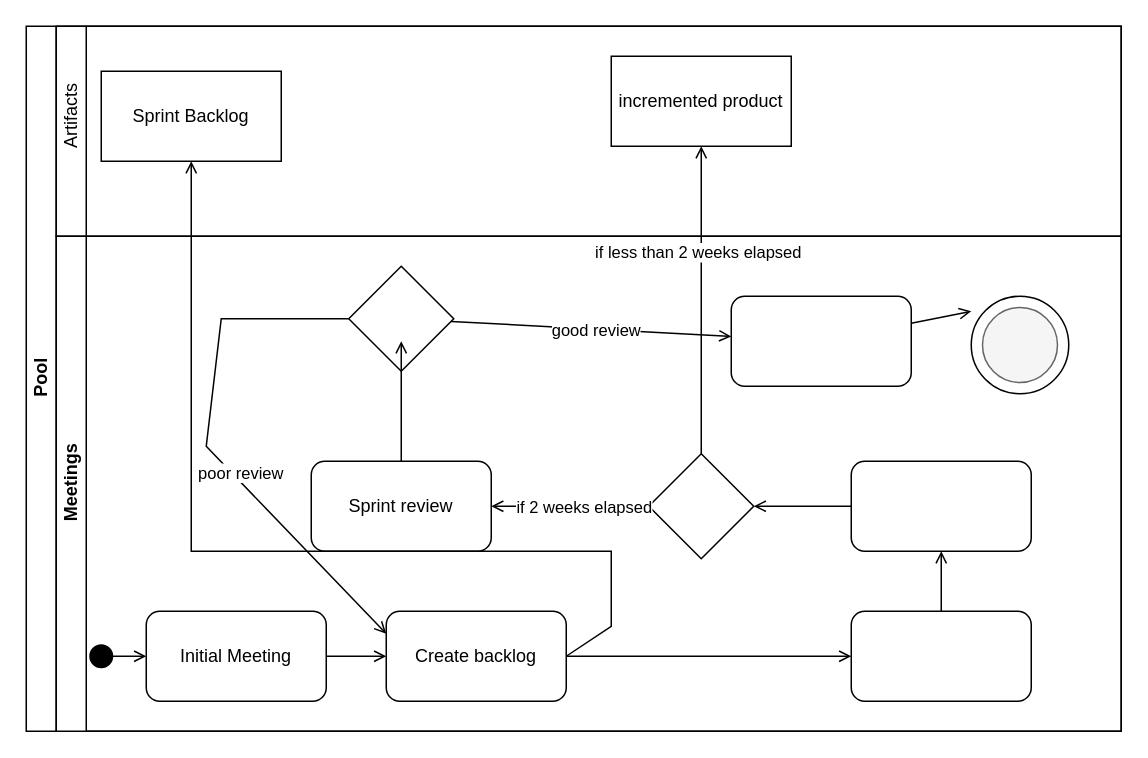
This 1148x758 diagram has some shape labels left out. Here are the shapes that lost their labels. From the top down, the centre of each, then its label:
At pixel 820 340: "Retrospective meeting".
At pixel 940 505: "Daily Scrum".
At pixel 940 655: "Sprint".
